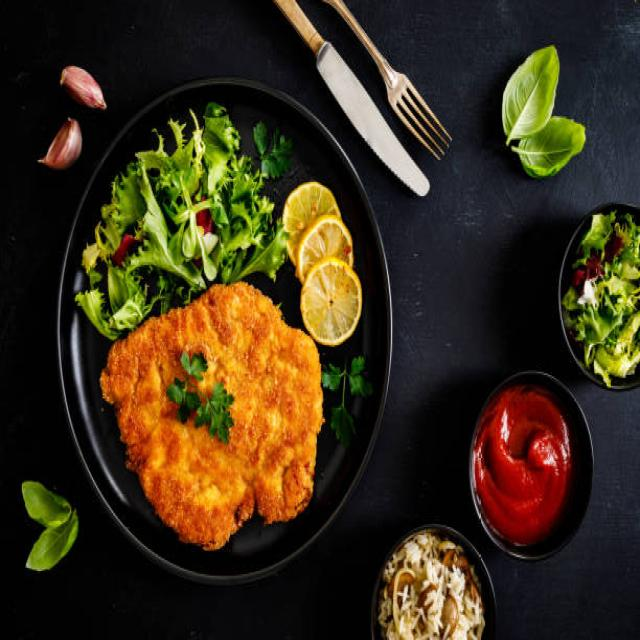Frango: (100, 276, 326, 555)
